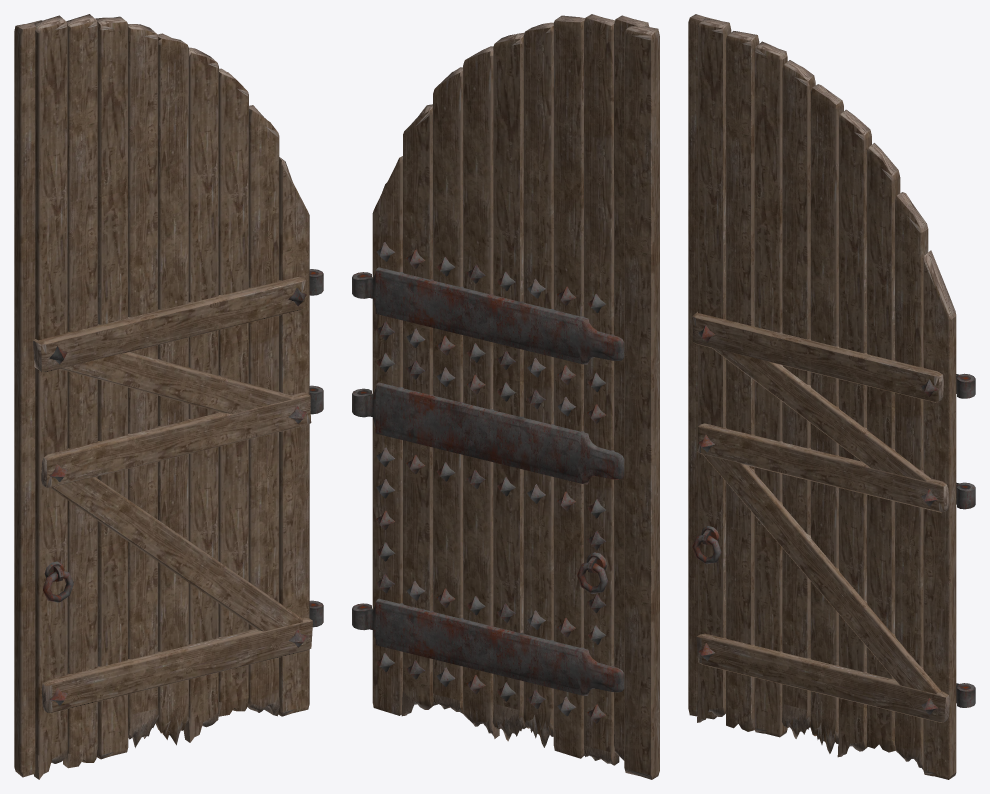
3 views of the same model, side by side, from view 1: azimuth 30°, elevation 25°; view 2: azimuth 150°, elevation 25°; view 3: azimuth 330°, elevation 25° (orthographic). The views are drawn at different scales.
Visible parts, largest first — view 1: SM_PortalDoorA01_LOD0; view 2: SM_PortalDoorA01_LOD0; view 3: SM_PortalDoorA01_LOD0.
Boxes of the visible parts, x1,y1,x2,y2 form: SM_PortalDoorA01_LOD0: (14,14,323,779); SM_PortalDoorA01_LOD0: (352,14,659,779); SM_PortalDoorA01_LOD0: (688,14,975,779).
Size of the model in its own units: 2.02 by 4.77 by 0.3034.
Materials: 1 (1 with a texture image).
